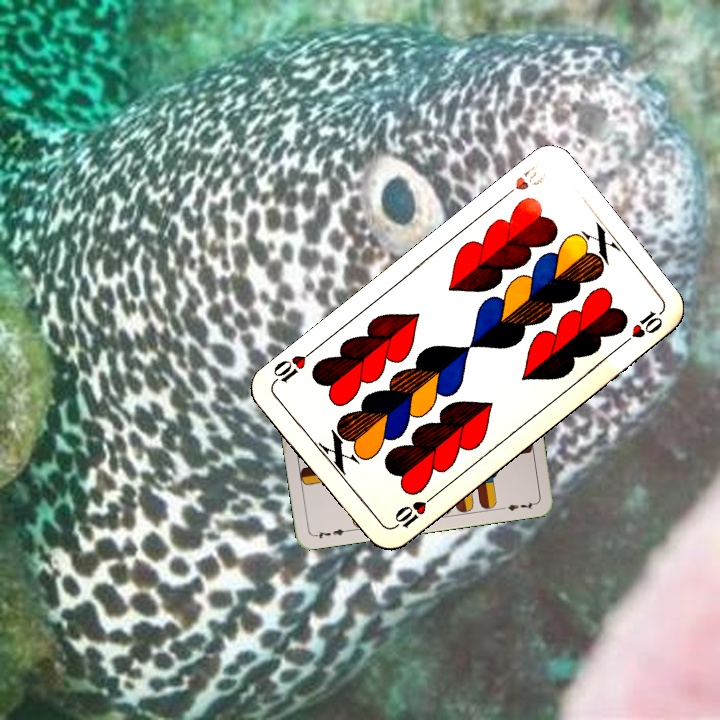E7: (310, 524, 351, 541)
H10: (496, 160, 548, 203), (387, 490, 438, 533)
